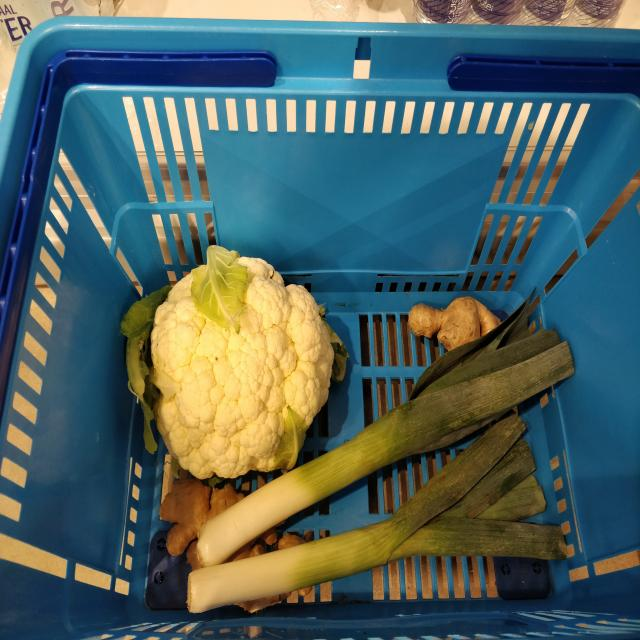Cauliflower head: (150, 247, 337, 482)
Ginger: (410, 296, 497, 351)
Leek: (189, 301, 576, 571), (186, 413, 574, 613)
